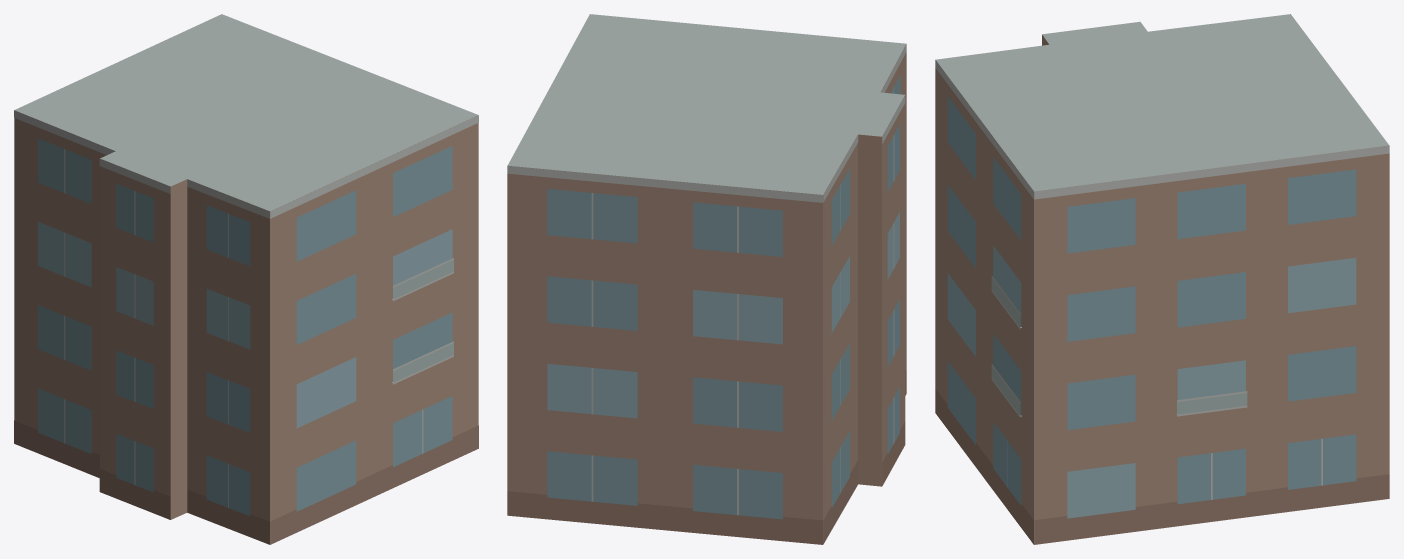
File: survey-upis-33008456.glb
The picture shows the model from 3 angles, left to right: view 1: azimuth 30°, elevation 25°; view 2: azimuth 150°, elevation 25°; view 3: azimuth 270°, elevation 25°; orthographic projection. The views are drawn at different scales.
Parts seen in each view (by area): view 1: survey-upis-33008456.tmp; view 2: survey-upis-33008456.tmp; view 3: survey-upis-33008456.tmp.
Part boxes in pixels (bbox=[...]): survey-upis-33008456.tmp: bbox=[14, 14, 478, 544]; survey-upis-33008456.tmp: bbox=[507, 14, 906, 544]; survey-upis-33008456.tmp: bbox=[935, 14, 1389, 544].
Size of the model in its own units: 11.6 by 10.75 by 12.53.
